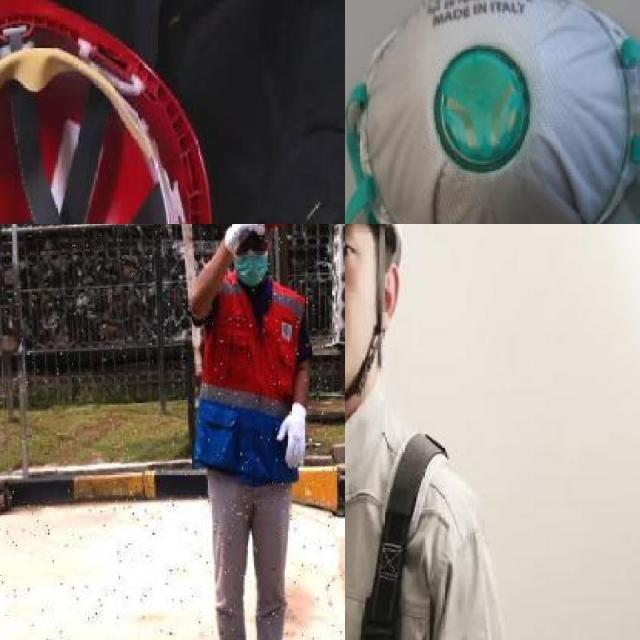apron: (272, 398, 312, 472), (216, 224, 270, 251)
